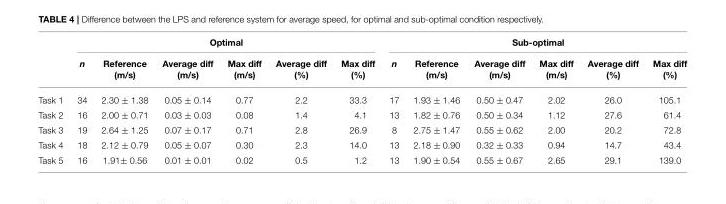table: (37, 37, 686, 164)
table column: (267, 37, 333, 164), (154, 37, 219, 164), (466, 37, 531, 164), (579, 37, 644, 164), (93, 37, 154, 164), (405, 37, 466, 164), (219, 37, 267, 164), (333, 37, 381, 164), (531, 37, 579, 164), (644, 37, 686, 164), (37, 37, 69, 164), (69, 37, 93, 164), (381, 37, 405, 164)
table column header: (37, 37, 686, 87)
table row: (37, 52, 686, 87), (37, 87, 686, 107), (37, 37, 686, 52), (37, 107, 686, 122), (37, 122, 686, 137), (37, 137, 686, 152), (37, 152, 686, 164)
table spanning cell: (69, 37, 381, 52), (381, 37, 686, 52)
